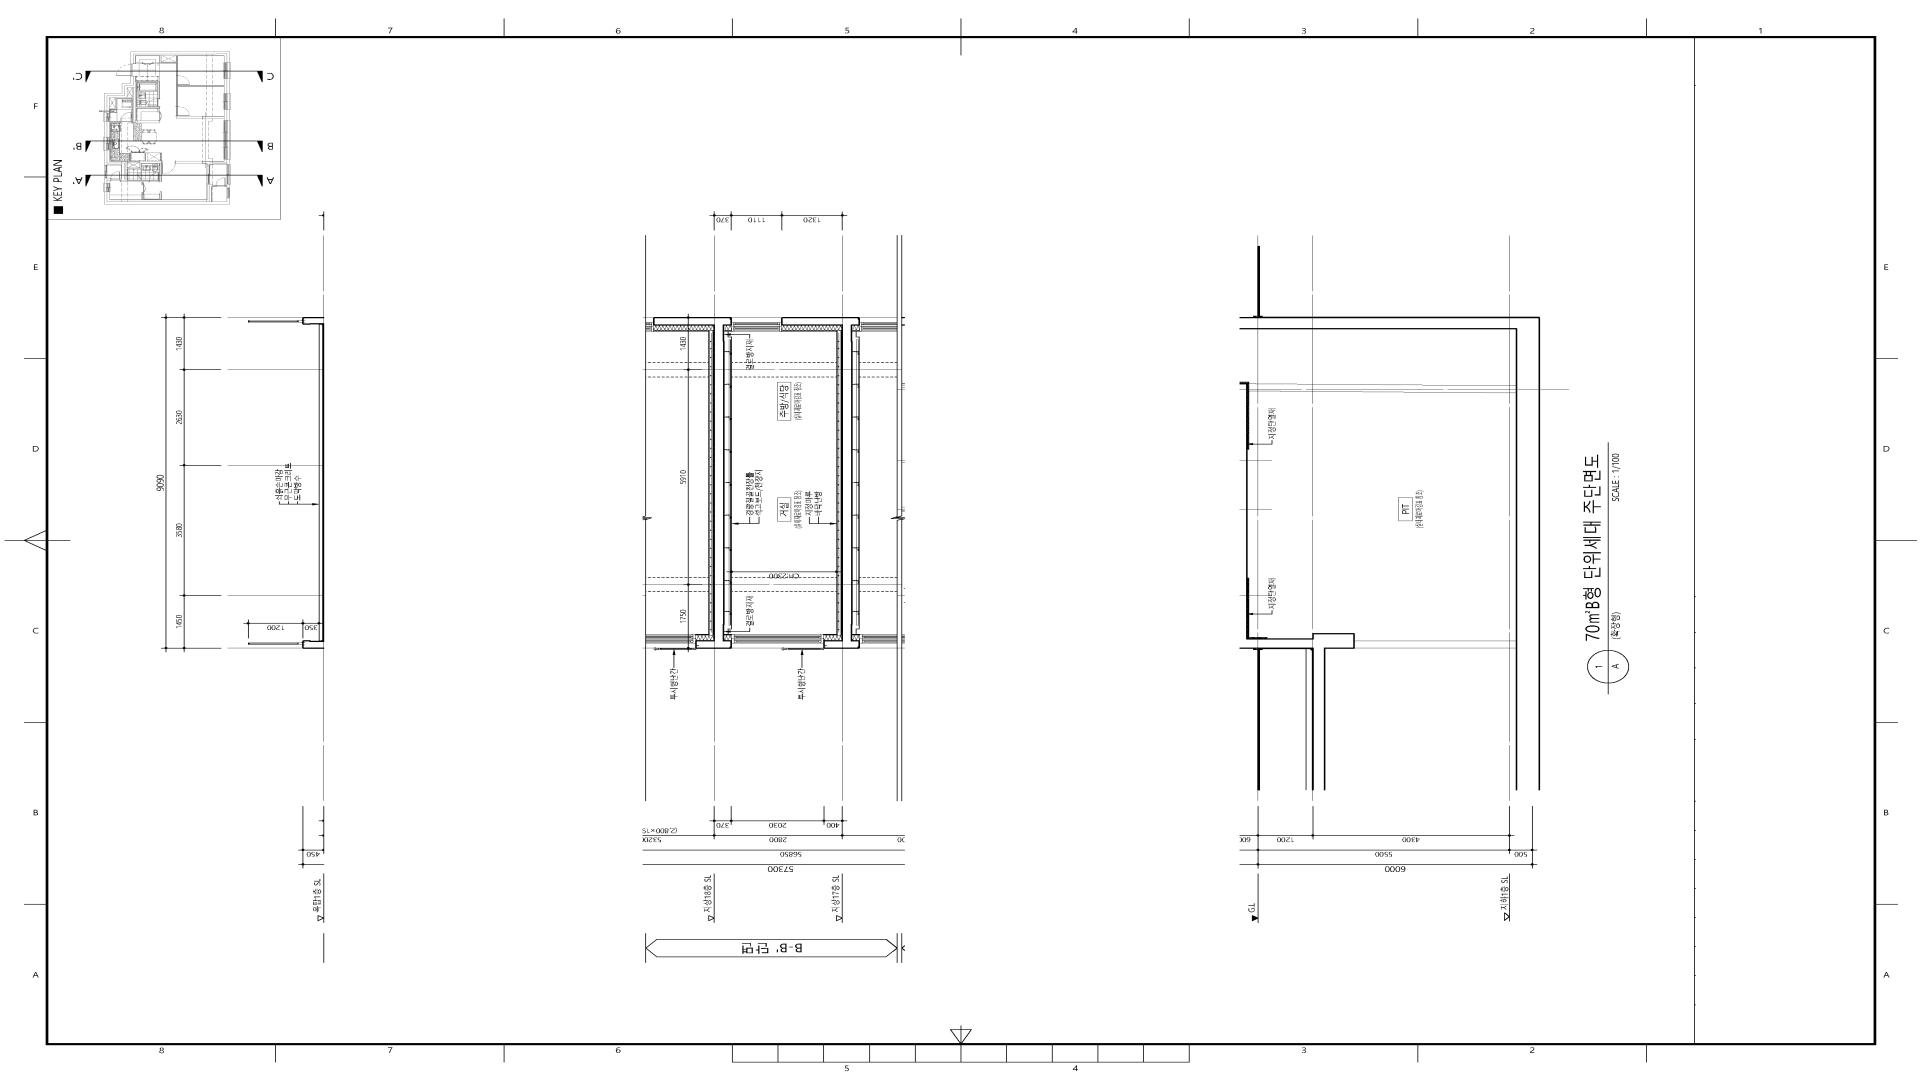wall: (1240, 317, 1540, 790), (1239, 383, 1355, 790), (653, 317, 732, 649), (781, 317, 860, 649), (1355, 641, 1516, 648)
window: (732, 634, 823, 649), (732, 318, 781, 332)
